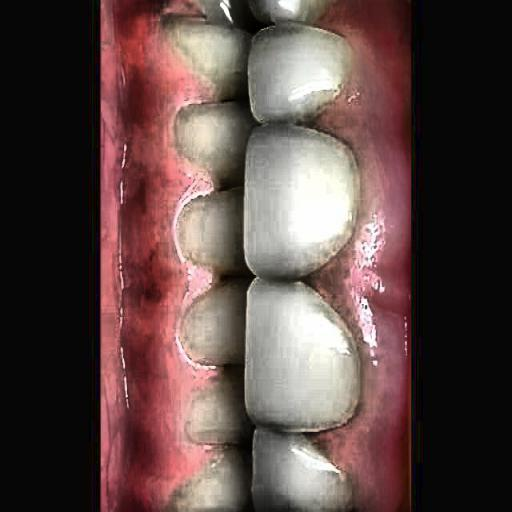Healthy: (151, 0, 350, 512)
